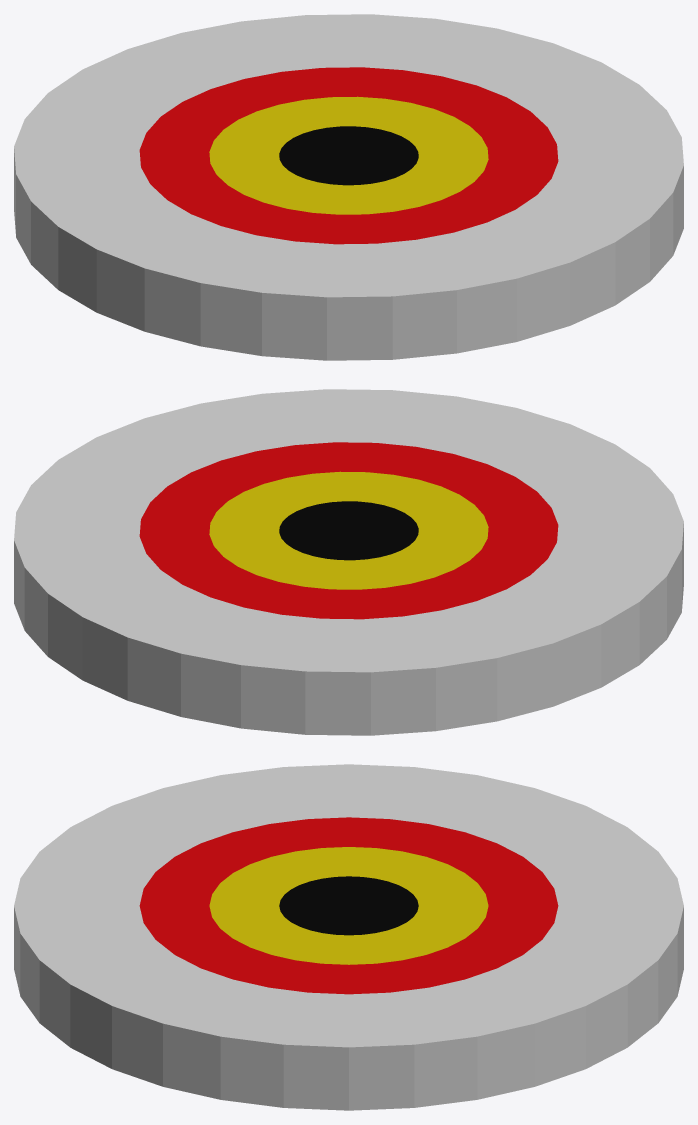
The model's file is target.fbx.
3 renders of one model, top to bottom at view 1: azimuth 30°, elevation 25°; view 2: azimuth 150°, elevation 25°; view 3: azimuth 270°, elevation 25°, orthographic.
Parts seen in each view (by area): view 1: Circle; view 2: Circle; view 3: Circle.
Part boxes in pixels (x1,y1,x2,y2): Circle: (14, 14, 683, 360); Circle: (14, 389, 683, 735); Circle: (14, 764, 683, 1110).
Bounding box in the file's own units: 960 × 100 × 960.
